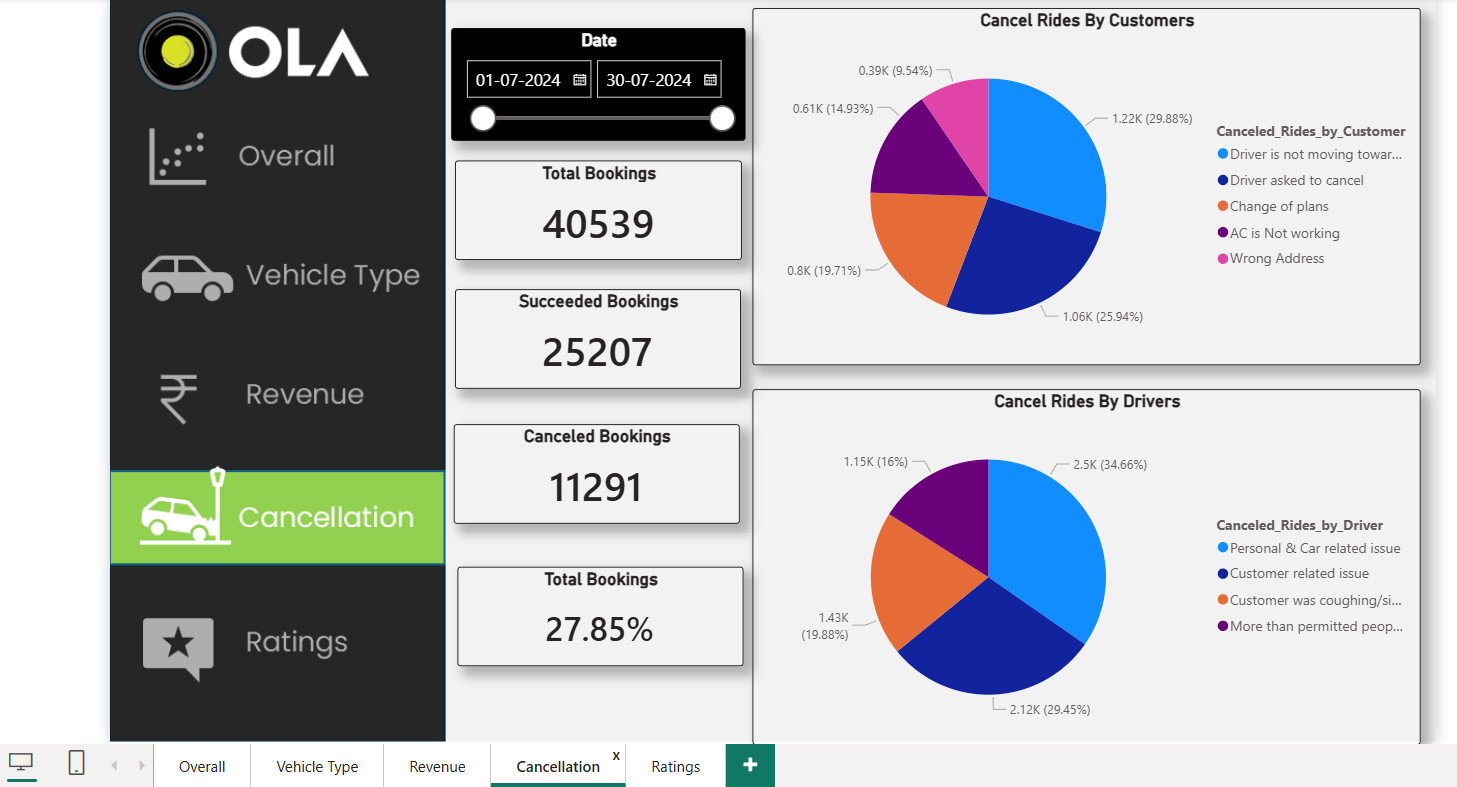

This screenshot's page, from the dashboard's own definition file:
{"tool":"powerbi","page":{"name":"Cancellation","canvas":[1280,720],"ordinal":3},"visuals":[{"type":"actionButton","box":[0,222,326.9,96.5],"z":0},{"type":"actionButton","box":[0,345,326.9,96.5],"z":1},{"type":"actionButton","box":[0,576.7,326.9,96.5],"z":2},{"type":"actionButton","box":[0,108.6,326.9,96.5],"z":3},{"type":"pieChart","title":"Cancel Rides By Customers","fields":{"Category":["Booking.Canceled_Rides_by_Customer"],"Y":["CountNonNull(Booking.Booking_Status)"]},"box":[620.2,9.6,644.9,344.4],"z":4},{"type":"pieChart","title":"Cancel Rides By Drivers","fields":{"Category":["Booking.Canceled_Rides_by_Driver"],"Y":["CountNonNull(Booking.Canceled_Rides_by_Driver)"]},"box":[620.2,377.4,644.9,343.1],"z":5},{"type":"slicer","title":"Date","fields":{"Values":["Booking.Date"]},"box":[329.3,28.8,284,108.4],"z":6},{"type":"cardVisual","title":"Total Bookings","fields":{"Data":["CountNonNull(Booking.Booking_ID)"]},"box":[333.4,156.4,277.2,96.1],"z":7},{"type":"cardVisual","title":"Succeeded Bookings","fields":{"Data":["CountNonNull(Booking.Booking_ID)"]},"box":[333.4,281.3,275.8,96.1],"z":8},{"type":"cardVisual","title":"Canceled Bookings","fields":{"Data":["CountNonNull(Booking.Booking_ID)"]},"box":[332.1,411.7,275.8,96.1],"z":9},{"type":"cardVisual","title":"Total Bookings","fields":{"Data":["Booking.Canceled Percentage"]},"box":[334.8,548.9,275.8,96.1],"z":10}]}

Visuals, with their boxes in screenshot pixels (x1, y1, x2, y2):
actionButton: select_region(102, 223, 442, 323)
actionButton: select_region(102, 350, 442, 451)
actionButton: select_region(102, 591, 442, 691)
actionButton: select_region(102, 105, 442, 205)
"Cancel Rides By Customers" pieChart: select_region(746, 2, 1415, 360)
"Cancel Rides By Drivers" pieChart: select_region(746, 384, 1415, 740)
"Date" slicer: select_region(444, 22, 739, 135)
"Total Bookings" cardVisual: select_region(448, 155, 736, 254)
"Succeeded Bookings" cardVisual: select_region(448, 284, 735, 384)
"Canceled Bookings" cardVisual: select_region(447, 420, 733, 519)
"Total Bookings" cardVisual: select_region(450, 562, 736, 662)
